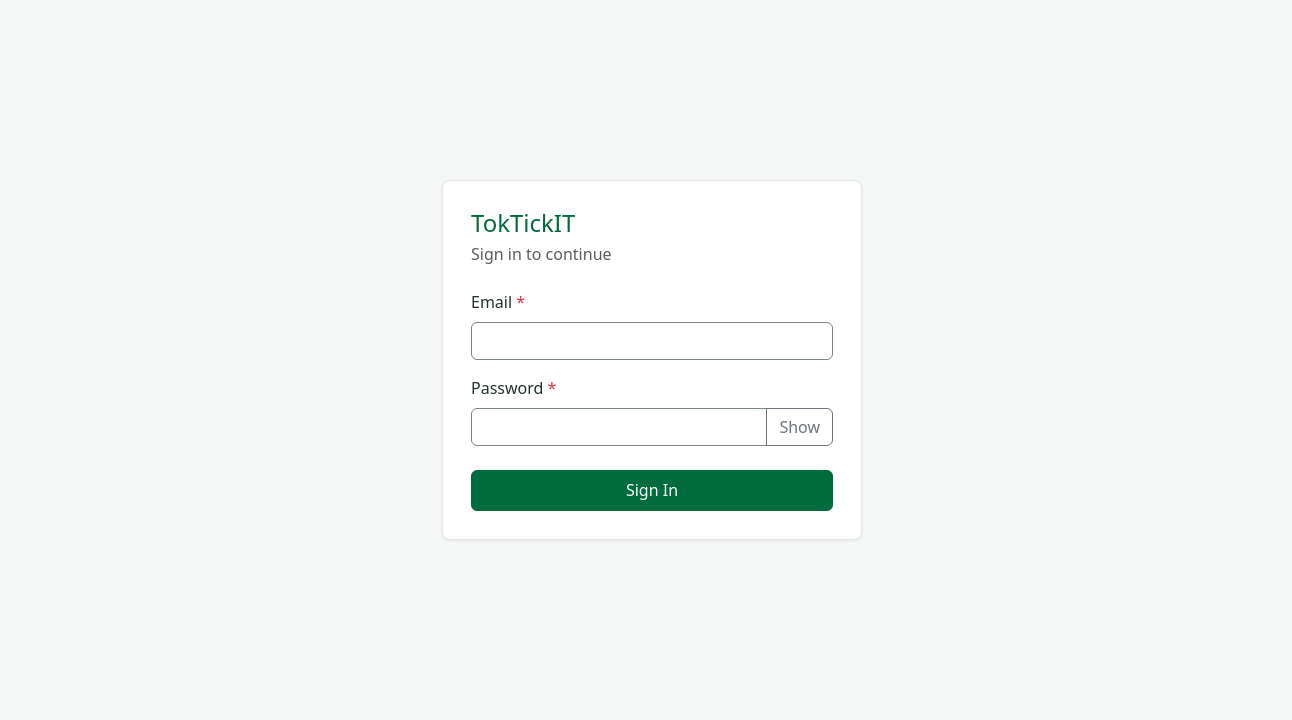
expired Staff dashboard and action-list sessions › continues from /staff/actions?page=2&pageSize=5#action-list through login after AUTH_REQUIRED
Check: the element with test id "login-card" is shown, box [442,180,862,540]
Type "staff@example.com" into the field labelled "Email *" at {"x": 652, "y": 341}, box [471,322,833,360]
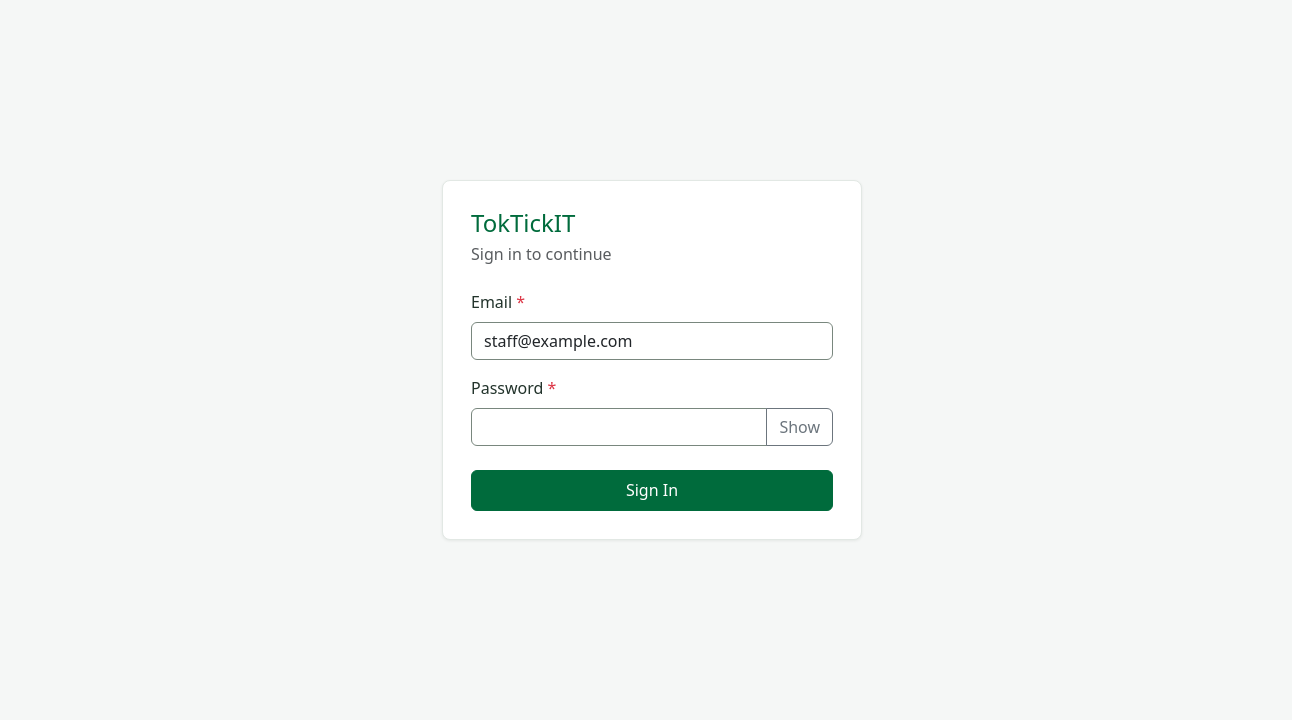
Type "password" into the password field labelled "Password *" at {"x": 619, "y": 427}, box [471,408,767,446]
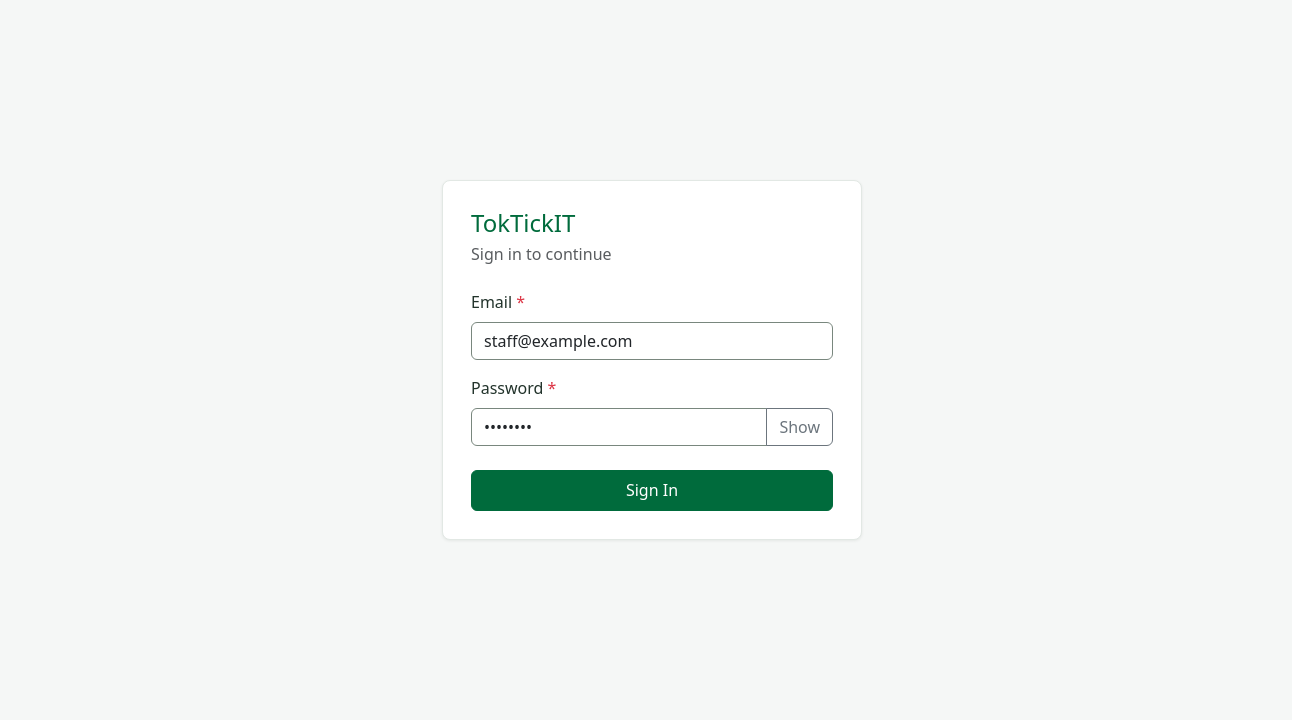
Click the button "Sign In" at {"x": 652, "y": 490}, box [471,470,833,511]
(page scrolled)
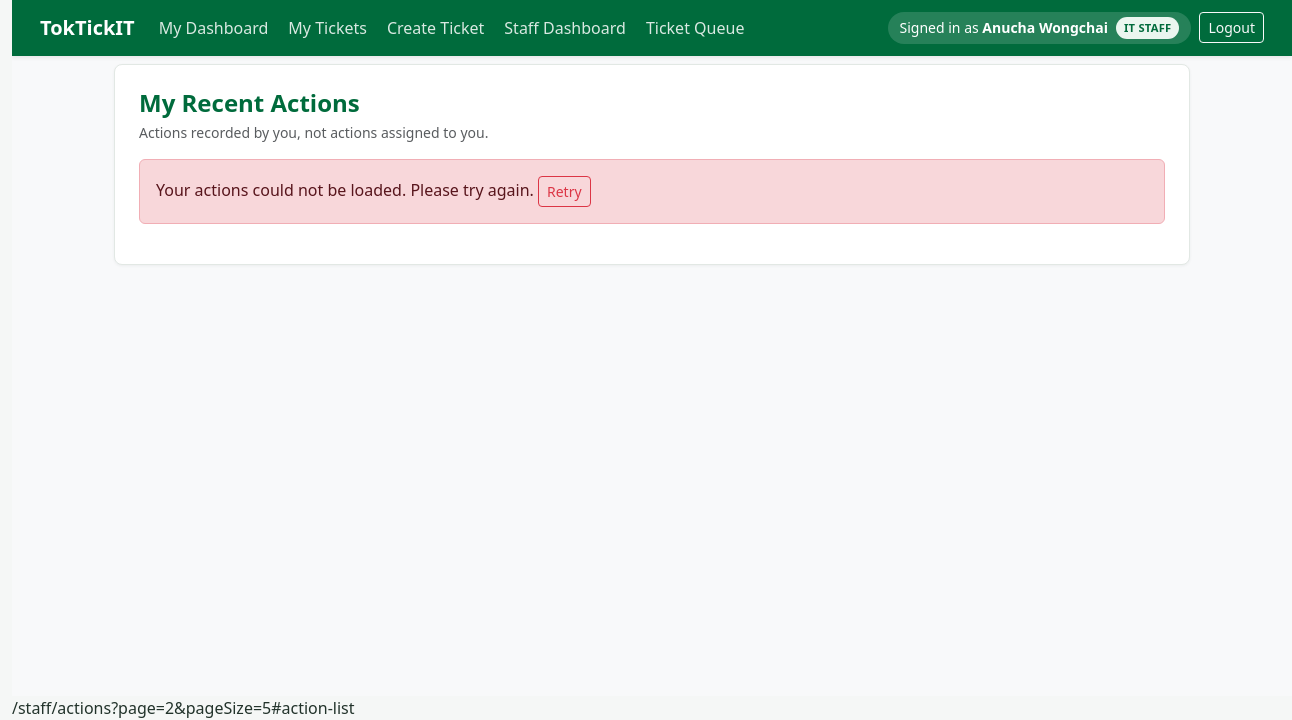
Check: the text with test id "current-location" reads "/staff/actions?page=2&pageSize=5#action-list", box [12,696,354,719]
